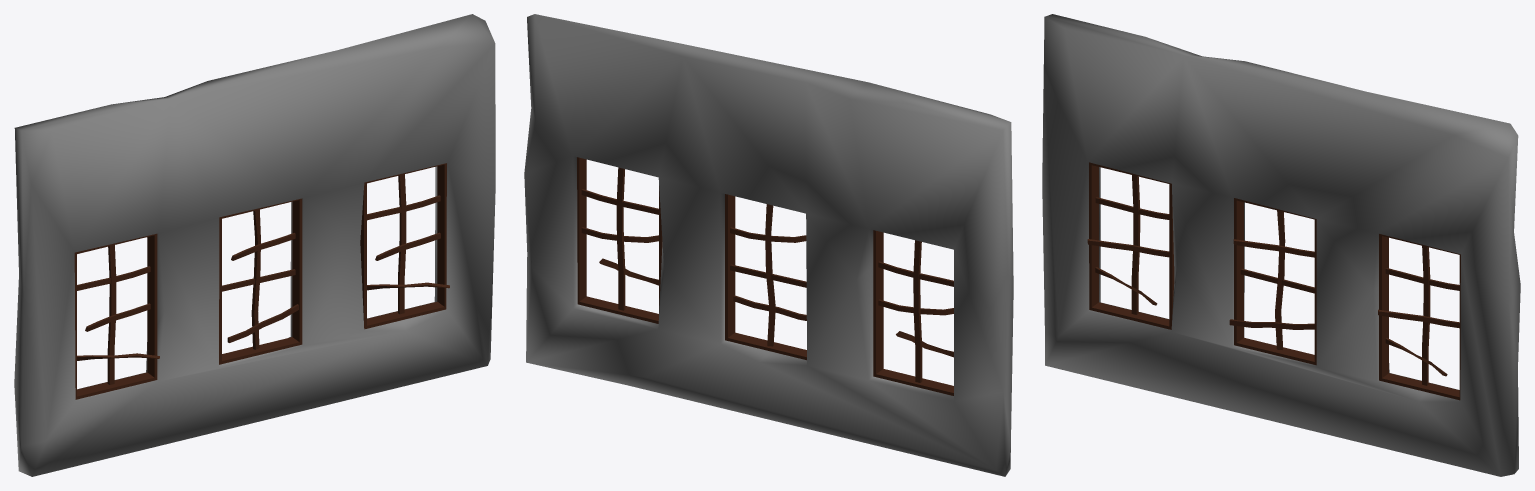
The model's file is SM_wall_windows_standard.fbx.
3 views of the same model, side by side, from view 1: azimuth 30°, elevation 25°; view 2: azimuth 150°, elevation 25°; view 3: azimuth 330°, elevation 25° (orthographic). The views are drawn at different scales.
Visible parts, largest first — view 1: Object024; view 2: Object024; view 3: Object024.
Part boxes in pixels (<box>): Object024: <box>14,14,495,476</box>; Object024: <box>524,14,1013,476</box>; Object024: <box>1042,14,1520,476</box>.
Bounding box in the file's own units: 197 × 138 × 16.41.
